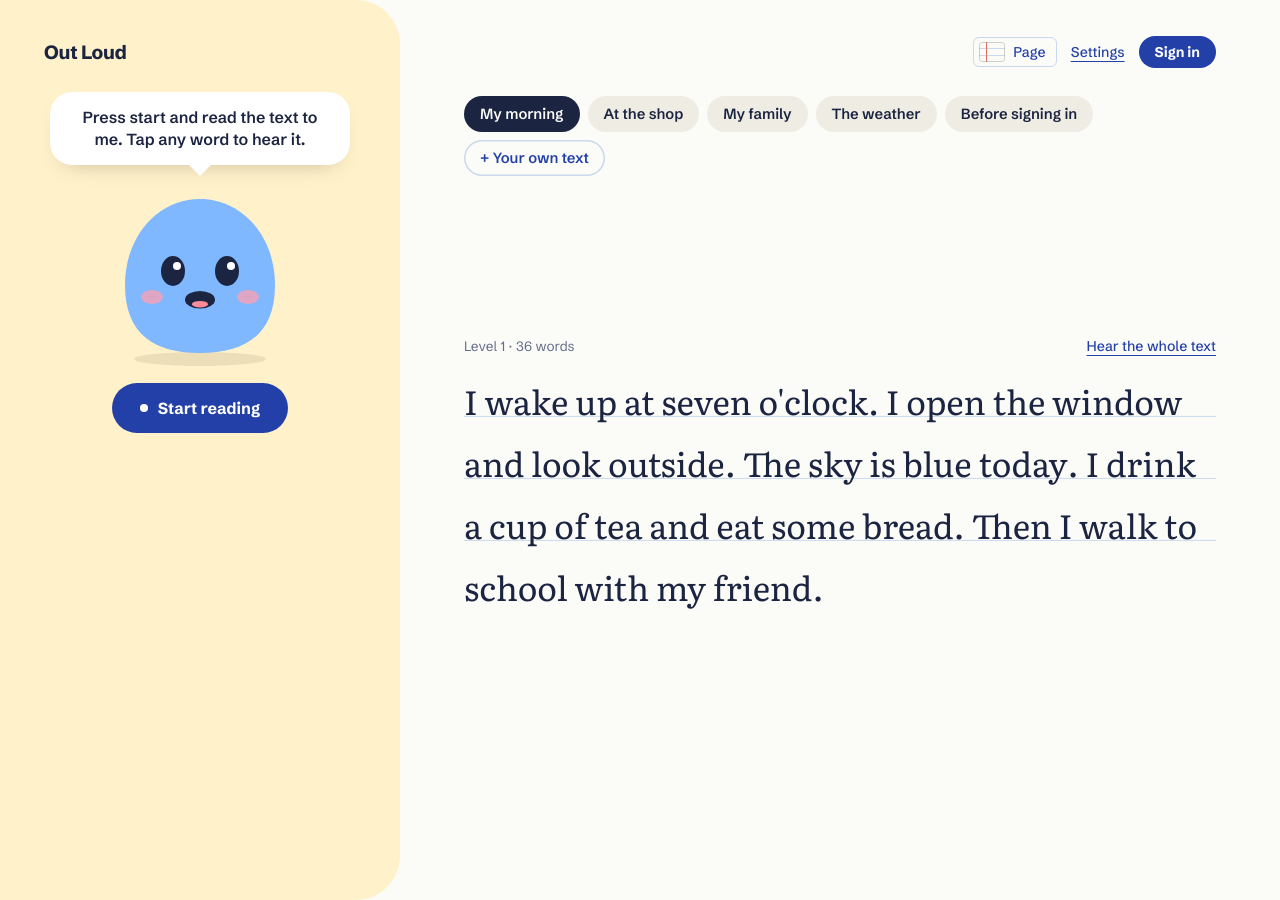
it: accounts and sync › signs in, uploads what is already on the device, and shows it is synced
This screenshot has width=1280, height=900.
Click the button "Sign in" at {"x": 1177, "y": 52}, box [1139,36,1216,68]
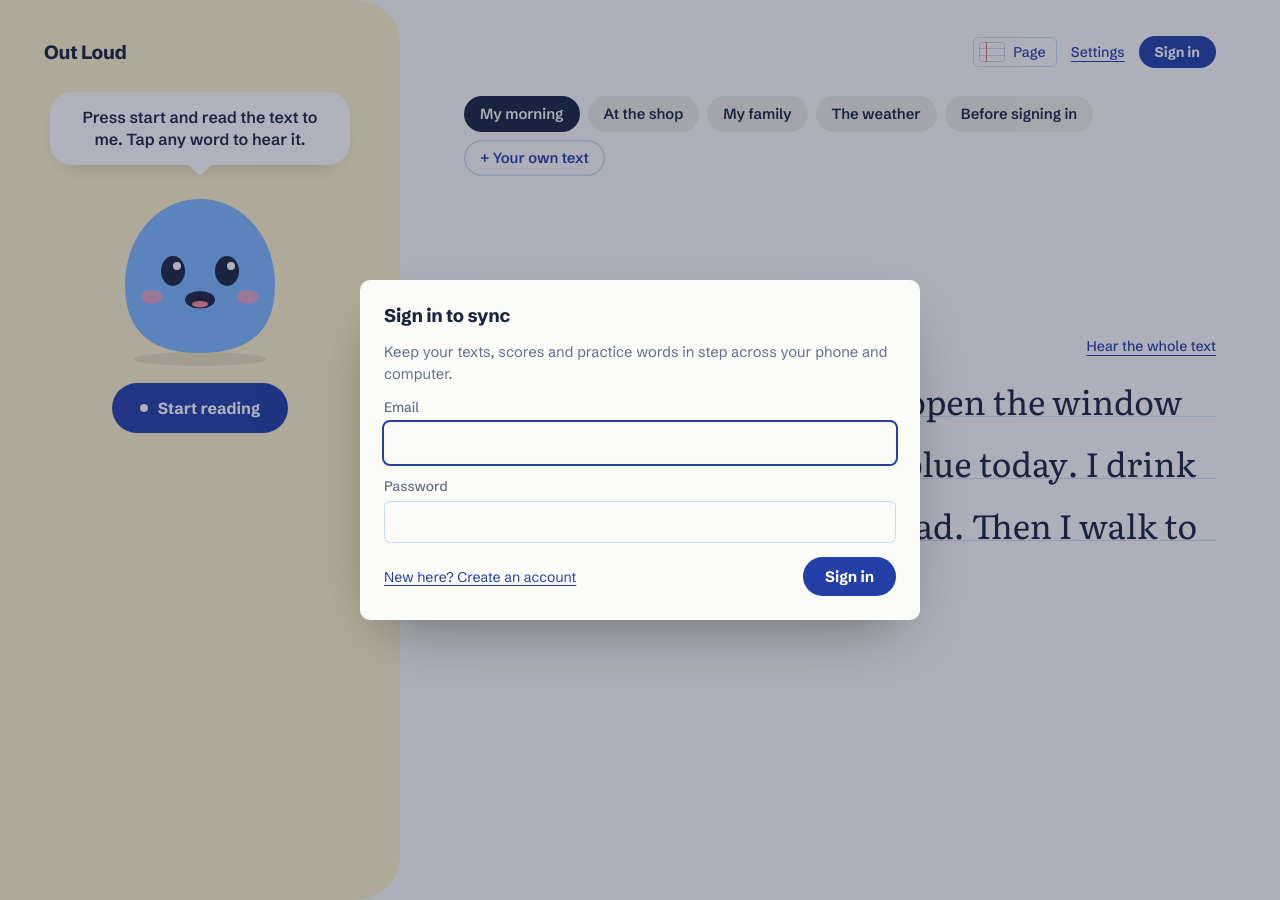
Type "me@example.com" into the field labelled "Email" at {"x": 640, "y": 443}, box [384,422,896,464]
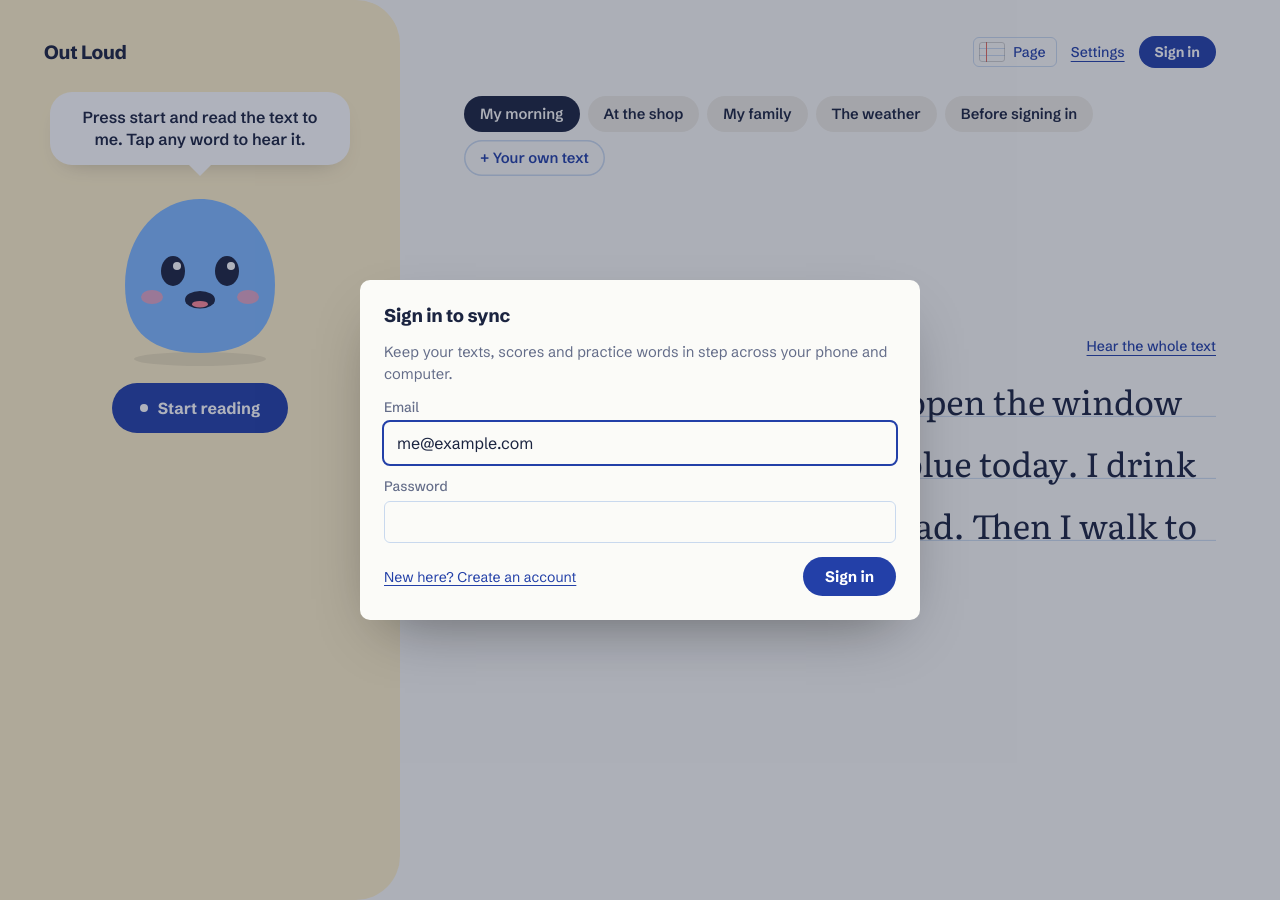
Type "right password" into the password field labelled "Password" at {"x": 640, "y": 522}, box [384,501,896,543]
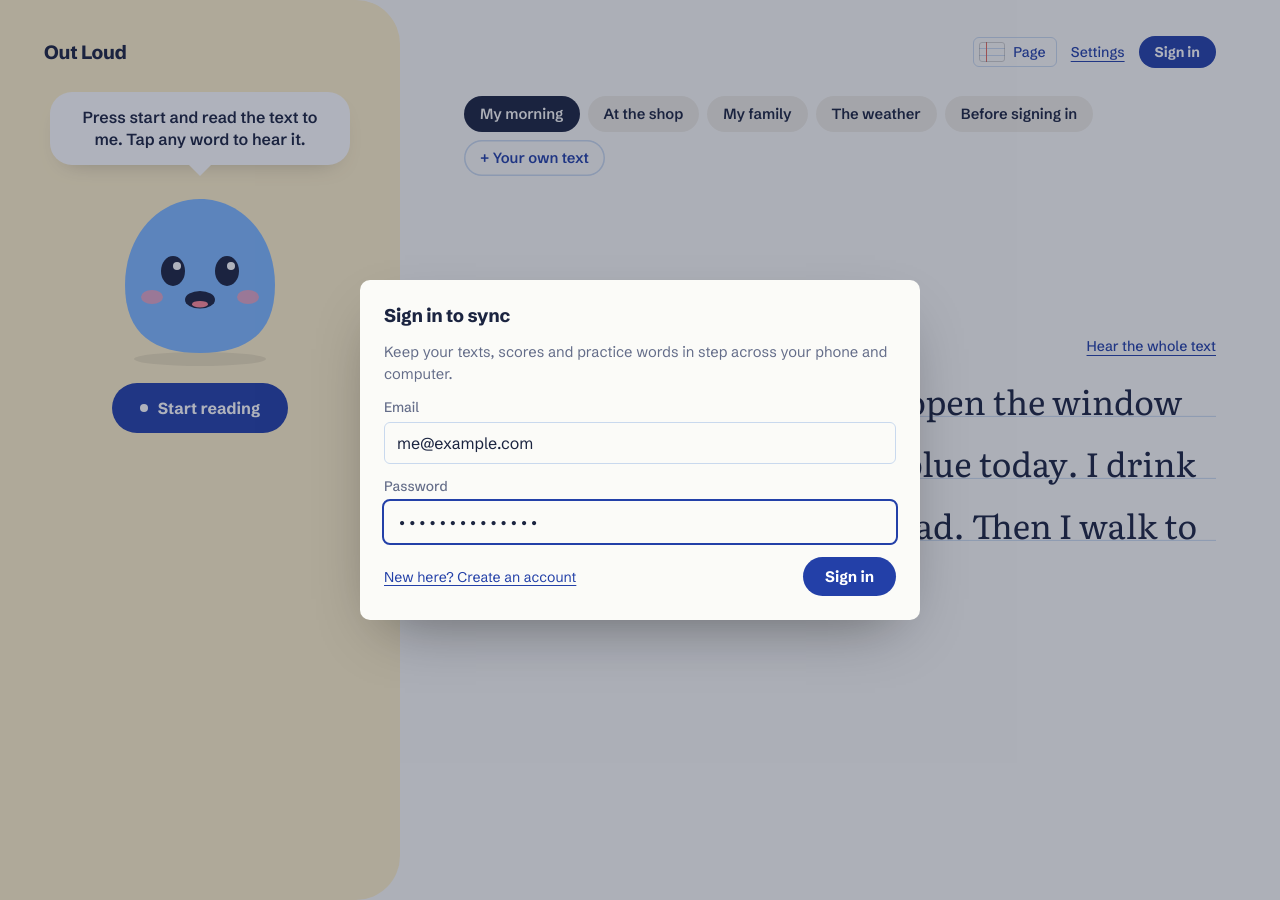
Click the button "Sign in" at {"x": 850, "y": 577}, box [803,557,896,596]
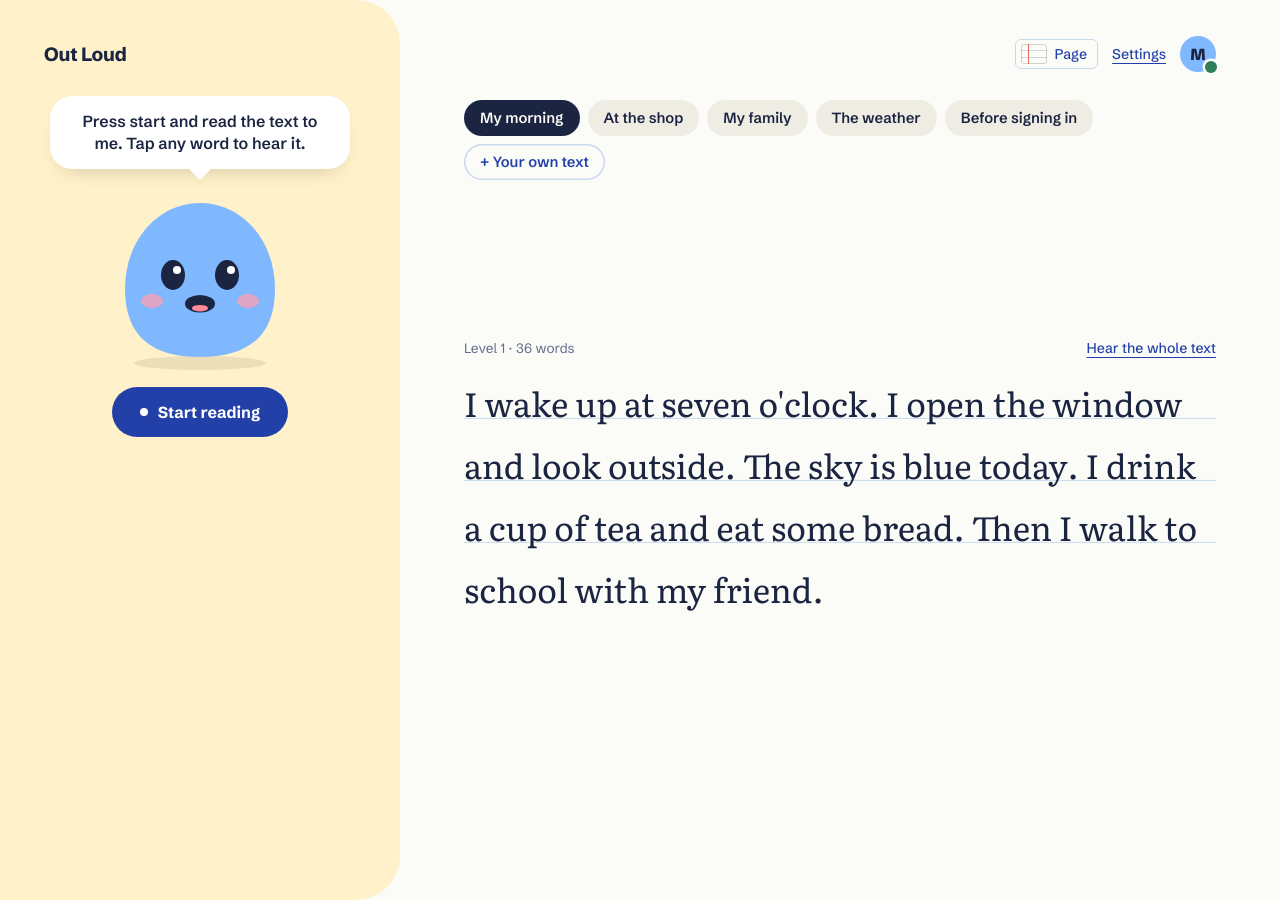
Expected: the button named "me@example.com" is shown, [1180,36,1216,72]
